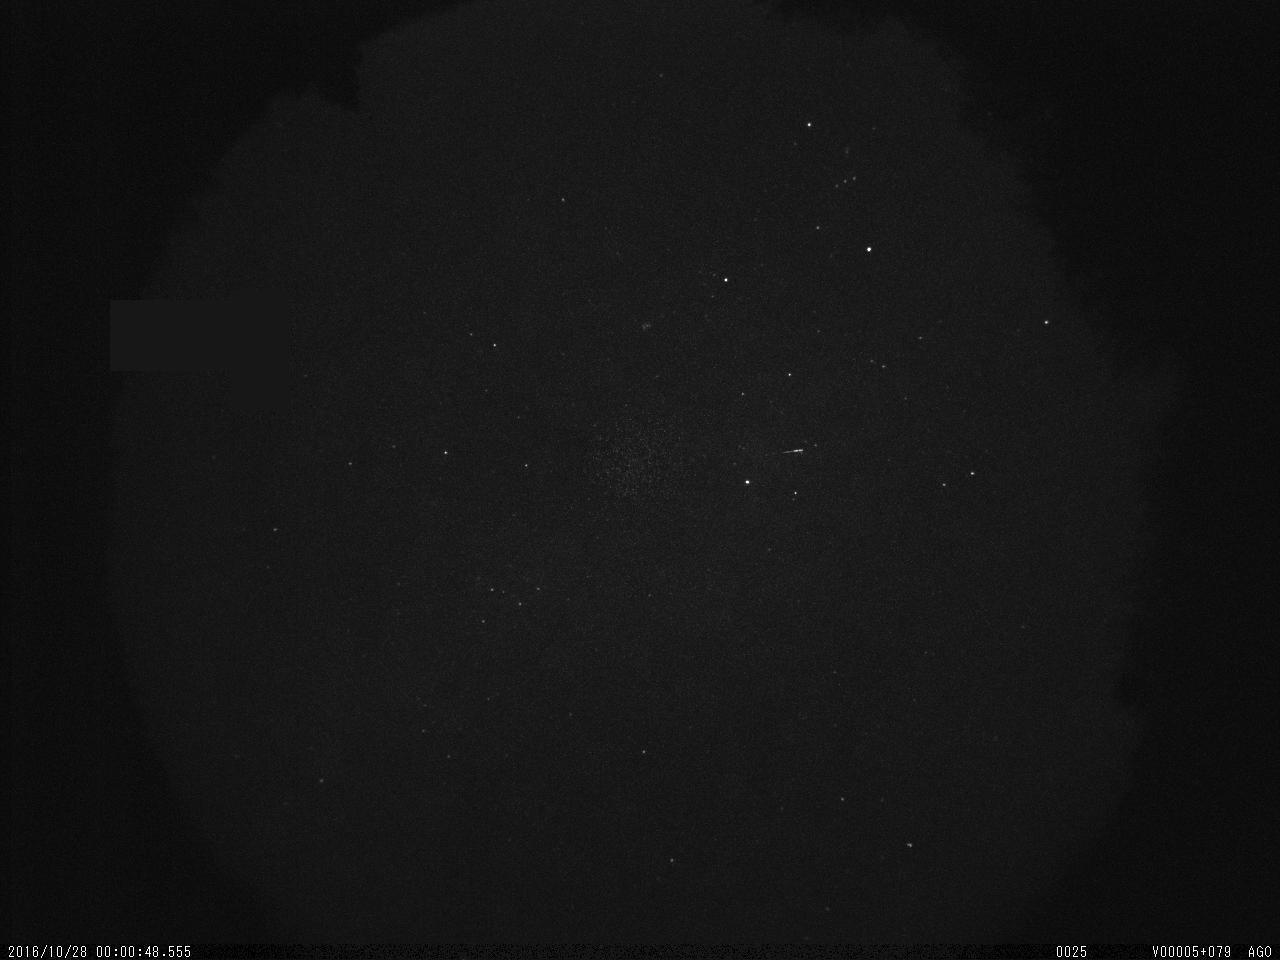meteor: (776, 440, 807, 465)
